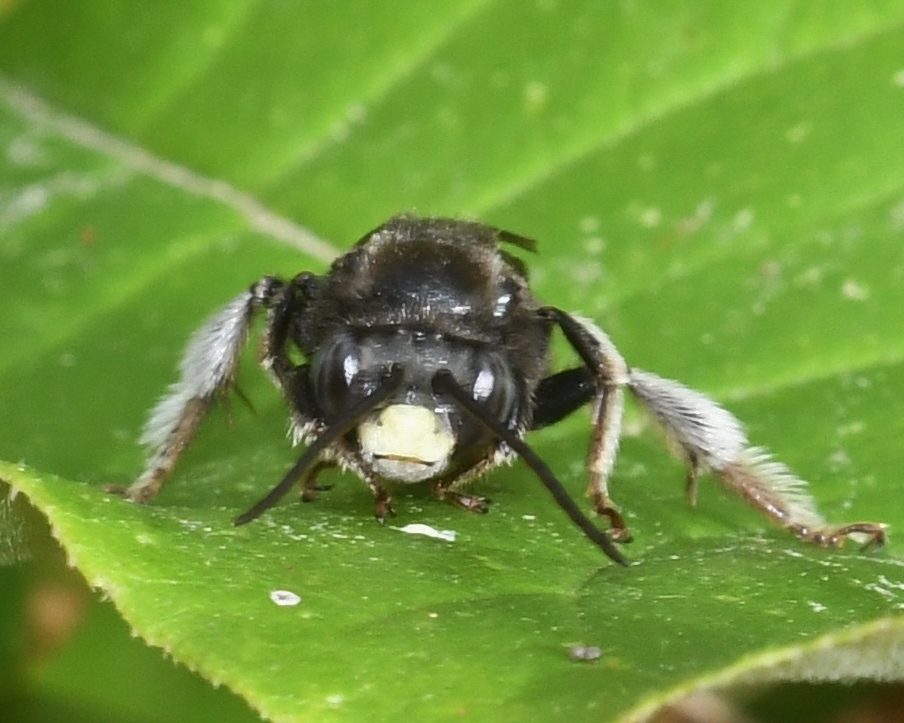not_bumblebee: (112, 211, 891, 571)
